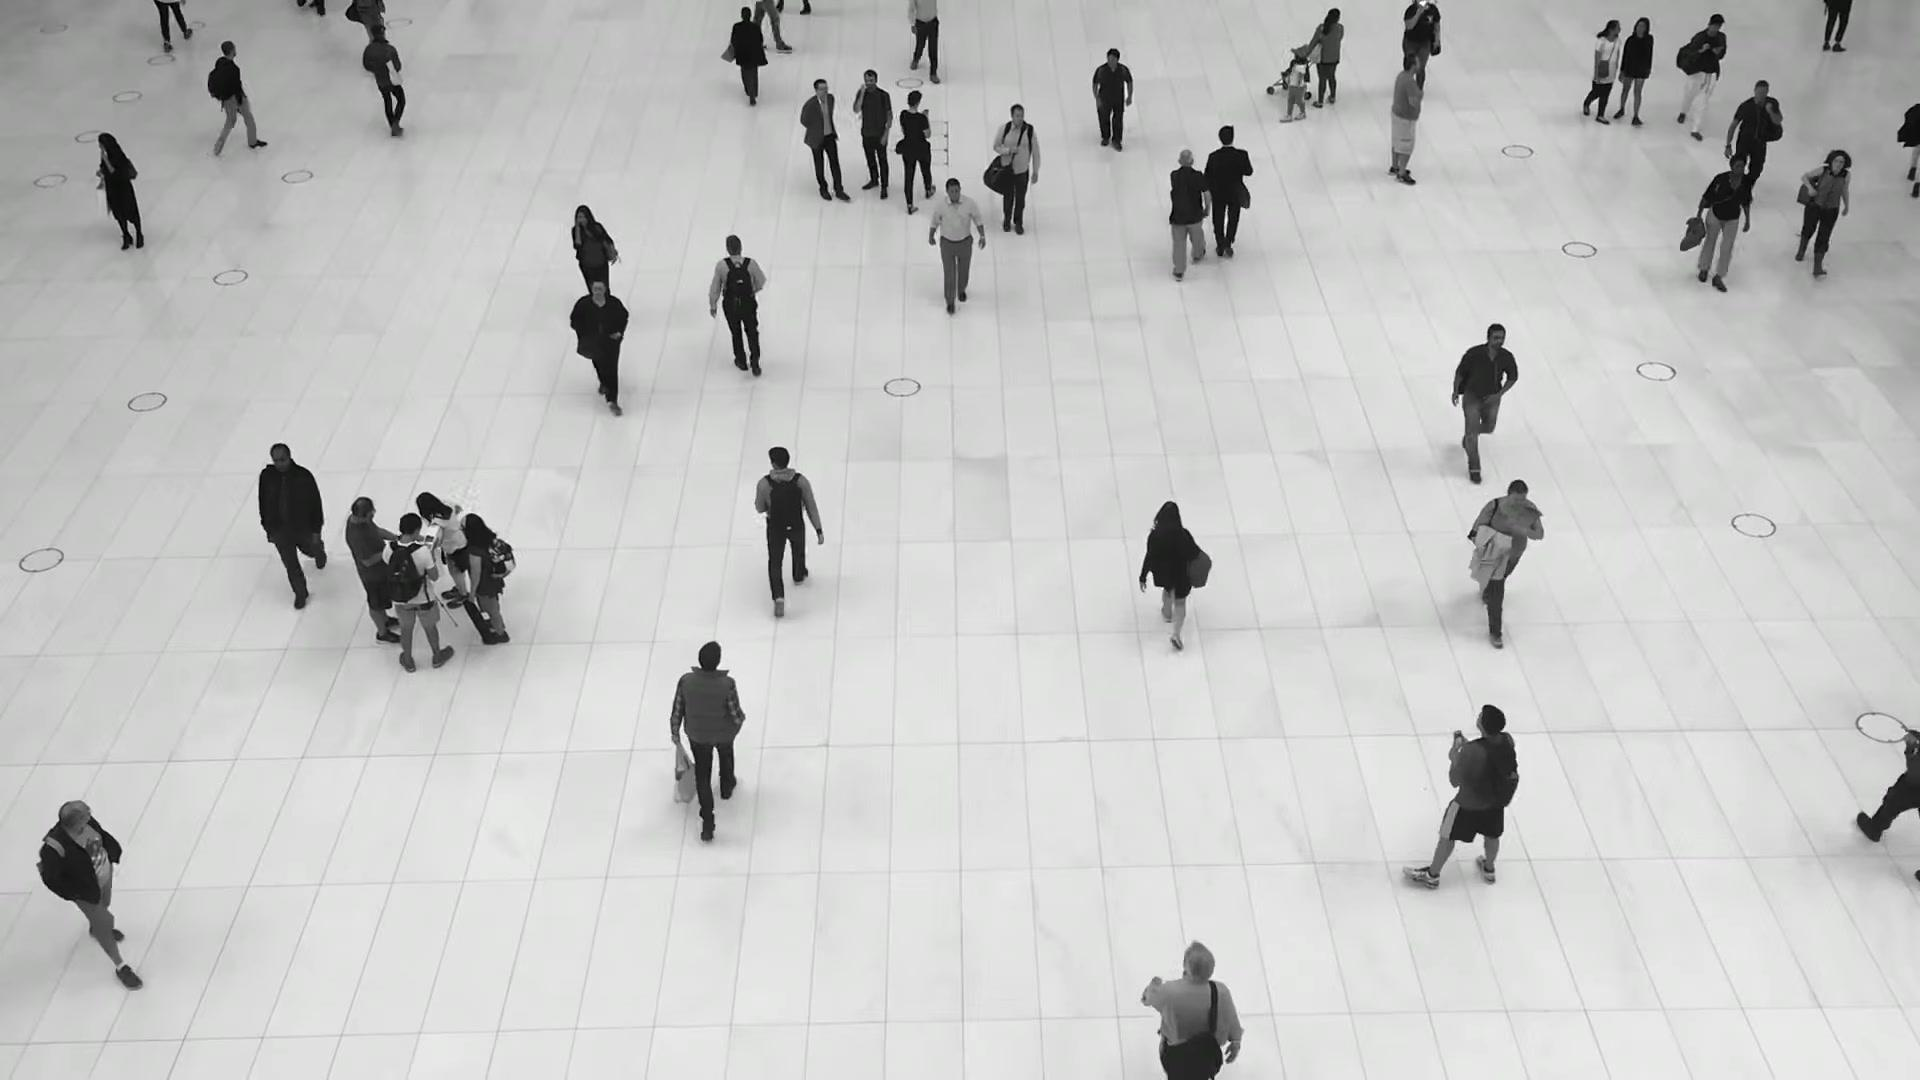person: (1402, 704, 1519, 889), (32, 796, 141, 988), (667, 641, 746, 842), (1138, 941, 1243, 1080), (1466, 478, 1544, 648), (754, 446, 823, 618), (381, 513, 454, 673), (258, 442, 327, 609), (1450, 323, 1519, 484), (1139, 501, 1211, 652), (568, 277, 630, 416), (707, 234, 766, 376), (344, 496, 399, 643), (1694, 154, 1751, 293), (928, 177, 985, 314), (204, 40, 269, 160), (459, 513, 515, 645), (1794, 148, 1852, 276), (1674, 12, 1726, 140), (798, 78, 850, 204), (414, 491, 470, 609), (1204, 124, 1253, 257), (991, 104, 1040, 235), (1722, 80, 1783, 178), (94, 131, 143, 250), (1167, 149, 1211, 283), (851, 69, 893, 200), (895, 90, 936, 215), (362, 24, 406, 137), (1612, 16, 1654, 127), (1388, 52, 1423, 185), (1091, 46, 1133, 152), (570, 204, 617, 291), (1582, 19, 1621, 125), (728, 7, 768, 105), (1310, 8, 1343, 107), (1278, 52, 1307, 122)
